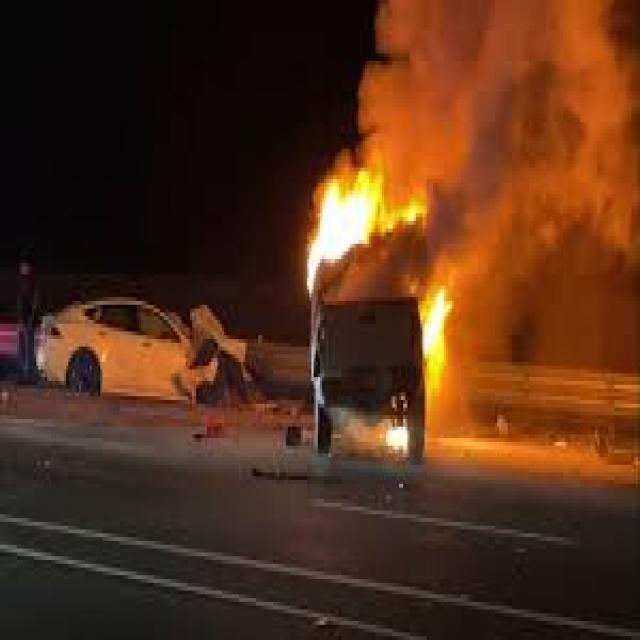fire: (292, 172, 382, 290), (416, 286, 457, 411)
smoke: (461, 8, 640, 290), (331, 4, 458, 171)
